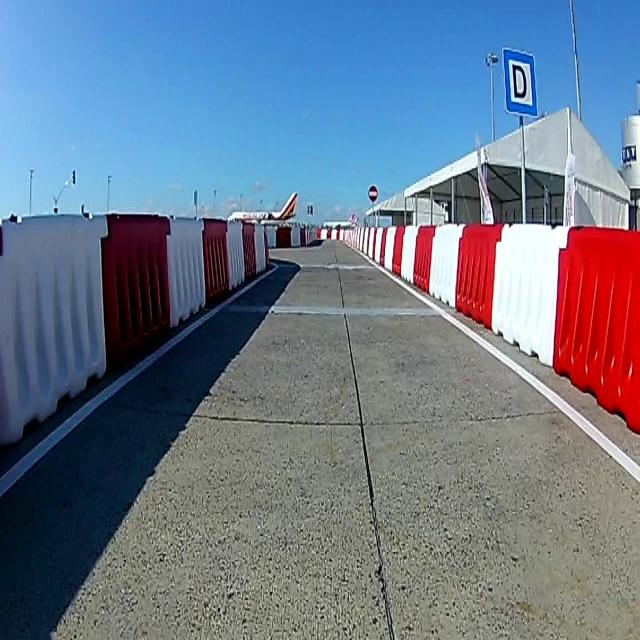durak: (503, 50, 537, 114)
girisyok: (366, 184, 379, 203)
